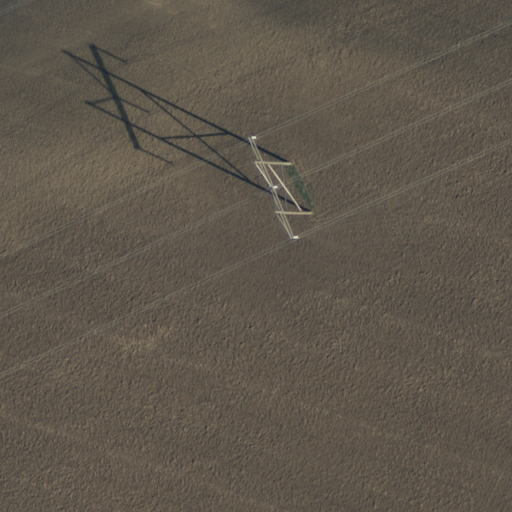TT: (248, 131, 312, 242)
